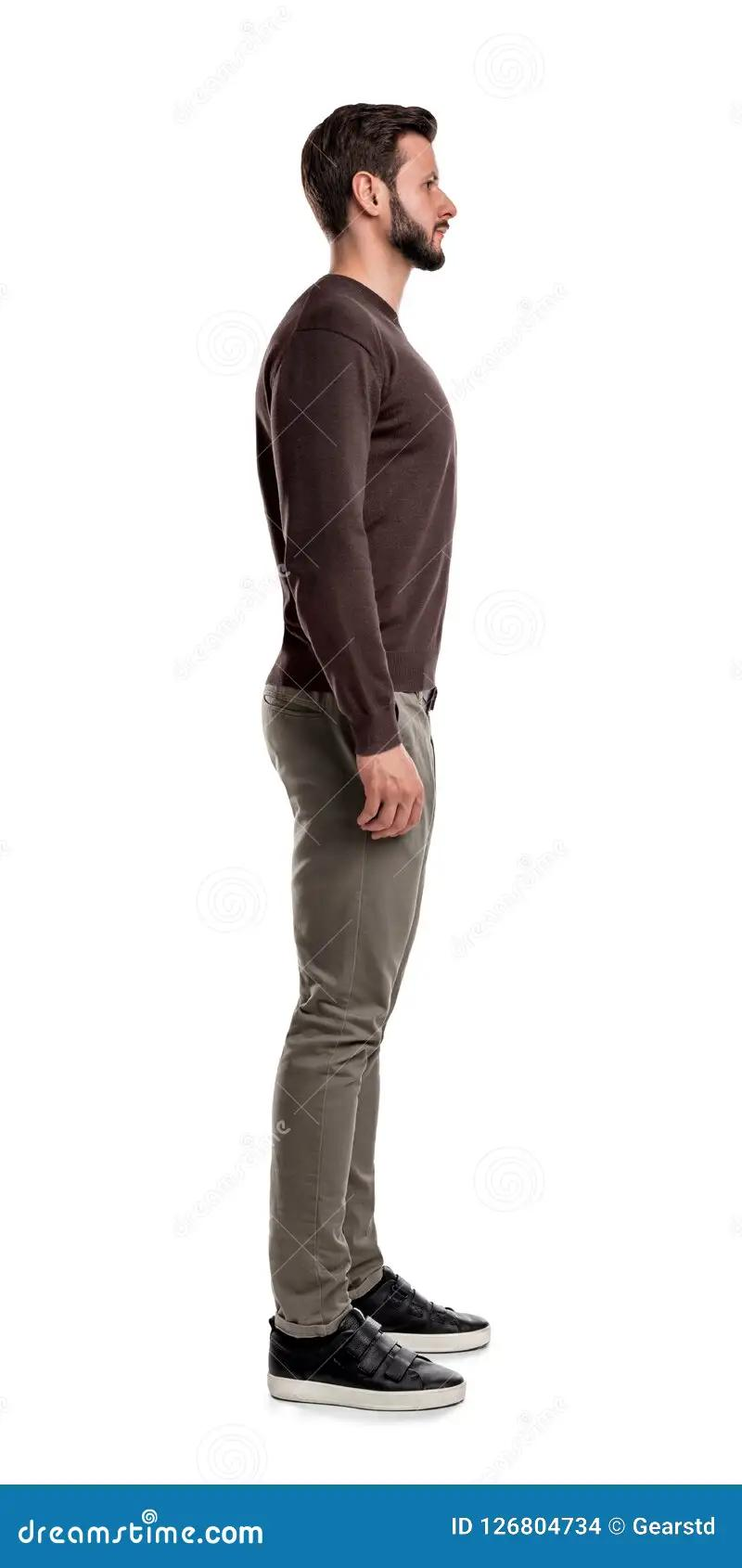sweater: (245, 271, 457, 763)
trousers: (262, 676, 445, 1336)
